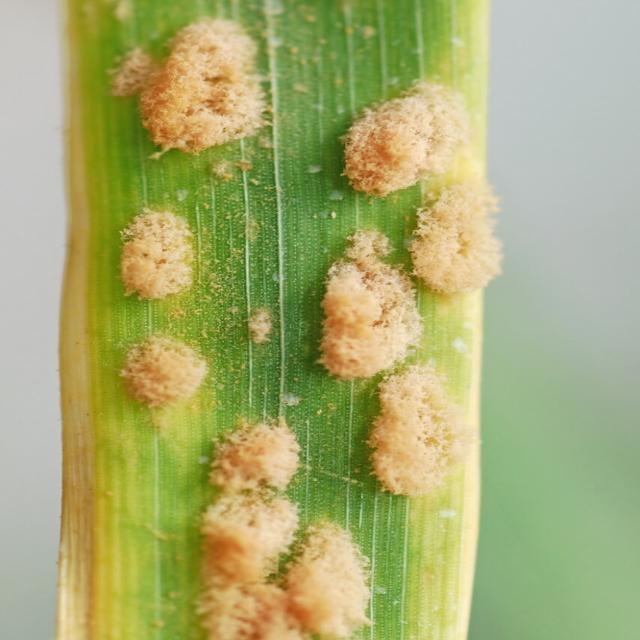wheat-powdery-mildew: (190, 418, 374, 640), (351, 78, 500, 293), (110, 18, 274, 156), (320, 225, 420, 379), (376, 364, 483, 502), (122, 209, 204, 302), (116, 337, 210, 417)
